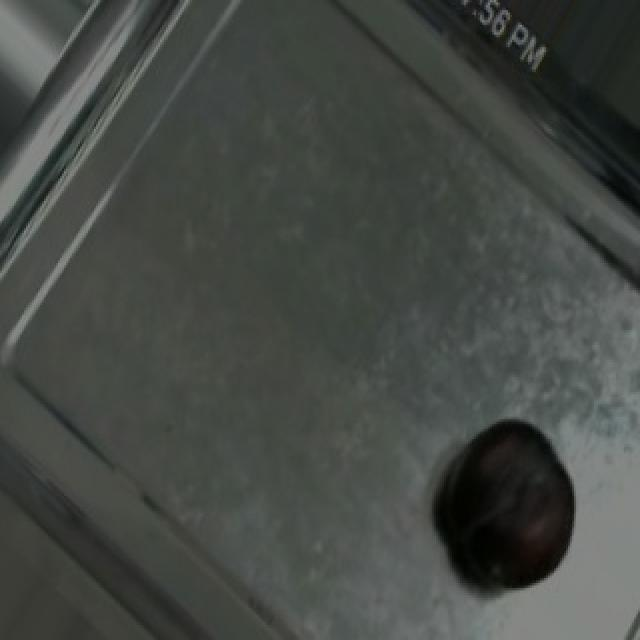Fruit: (432, 397, 596, 615)
